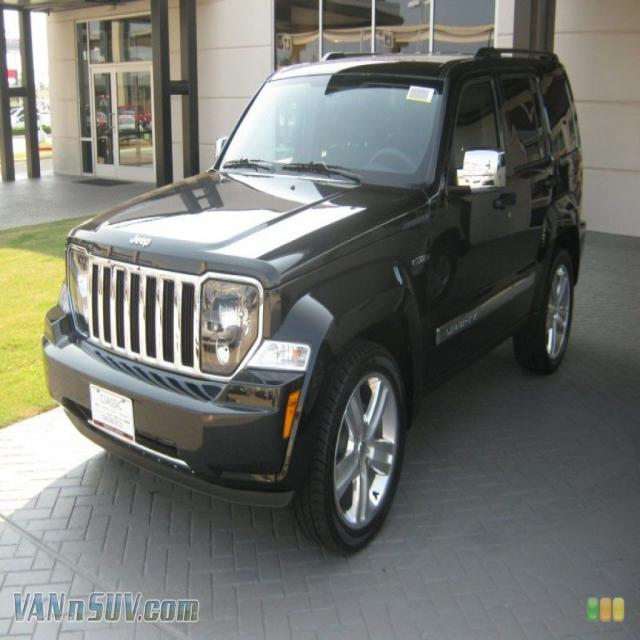car: (35, 28, 605, 566)
